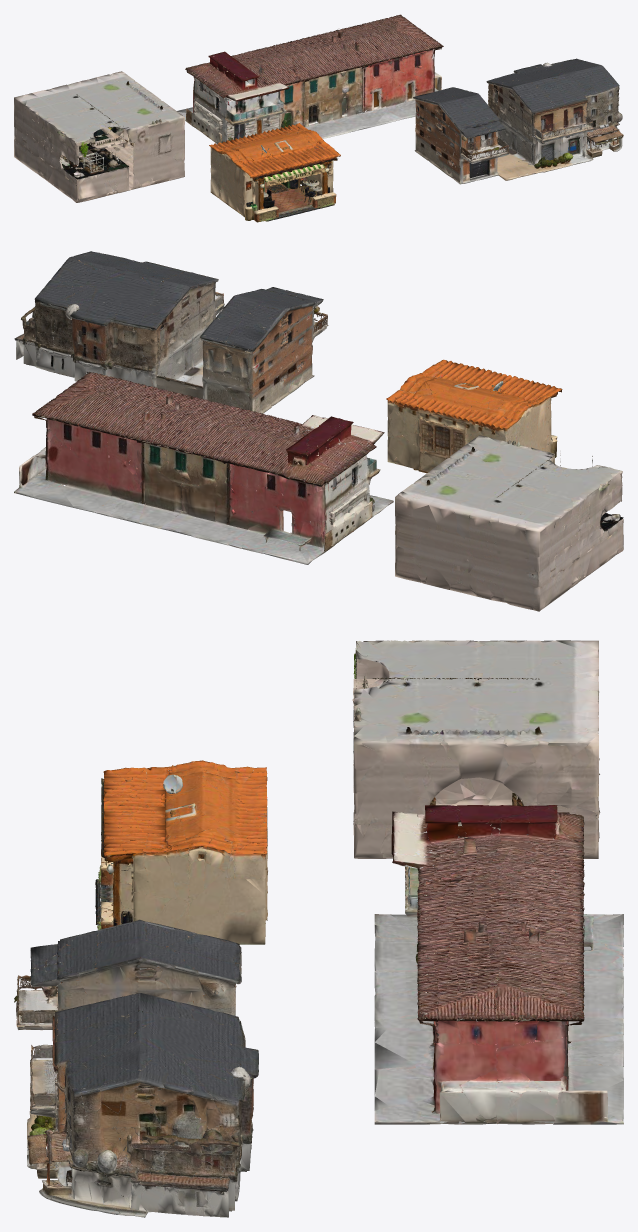
File: port_royal_street.glb
3 renders of one model, top to bottom at view 1: azimuth 30°, elevation 25°; view 2: azimuth 150°, elevation 25°; view 3: azimuth 270°, elevation 25°, orthographic. The views are drawn at different scales.
Visible parts, largest first — view 1: townhouses, street_corner, spirits_shop, bar_ext; view 2: townhouses, street_corner, spirits_shop, bar_ext; view 3: townhouses, street_corner, spirits_shop, bar_ext.
Boxes of the visible parts, left/top/right/bottom form: townhouses: left=177, top=14, right=443, bottom=143; street_corner: left=413, top=58, right=623, bottom=184; spirits_shop: left=14, top=71, right=184, bottom=202; bar_ext: left=209, top=123, right=340, bottom=222; townhouses: left=14, top=372, right=393, bottom=564; street_corner: left=14, top=251, right=328, bottom=413; spirits_shop: left=395, top=435, right=623, bottom=611; bar_ext: left=386, top=359, right=562, bottom=473; townhouses: left=374, top=805, right=623, bottom=1124; street_corner: left=14, top=919, right=258, bottom=1217; spirits_shop: left=352, top=640, right=600, bottom=858; bar_ext: left=95, top=760, right=267, bottom=944.
Bounding box in the file's own units: 48.48 × 6.36 × 26.91.
4 materials, 4 textured.
